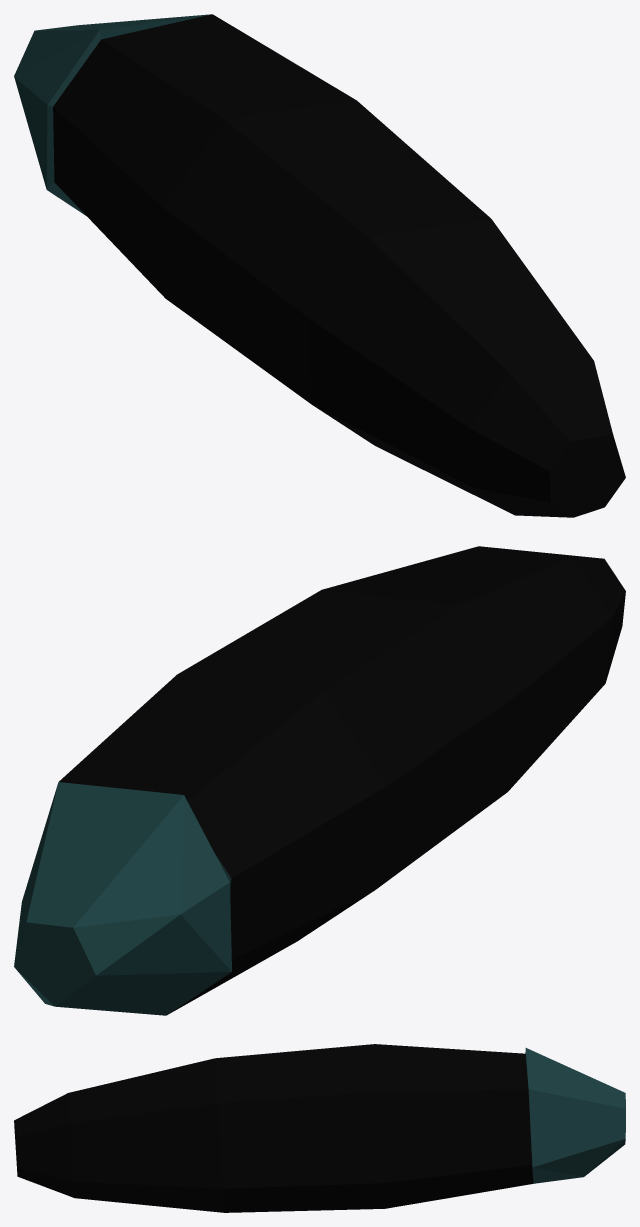
Rendered from Corn_Harvest_01.fbx.
The picture shows the model from 3 angles, top to bottom: view 1: azimuth 30°, elevation 25°; view 2: azimuth 150°, elevation 25°; view 3: azimuth 270°, elevation 25°; orthographic projection. The views are drawn at different scales.
Visible parts, largest first — view 1: Corn_Harvest_01; view 2: Corn_Harvest_01; view 3: Corn_Harvest_01.
Part boxes in pixels (left/top/right/bottom): Corn_Harvest_01: left=14, top=14, right=625, bottom=517; Corn_Harvest_01: left=14, top=546, right=625, bottom=1015; Corn_Harvest_01: left=14, top=1044, right=625, bottom=1212.
Size of the model in its own units: 6.76 by 6.69 by 26.31.
